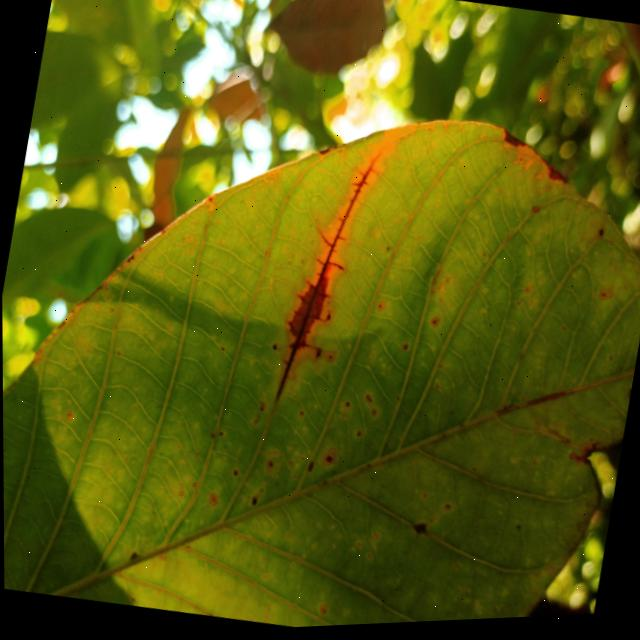Colletotrichum: (250, 498, 257, 507), (325, 457, 332, 465), (271, 344, 276, 352)
Corynespora: (271, 155, 378, 413)
Leaf-Blight: (501, 130, 529, 152), (545, 166, 570, 189)
